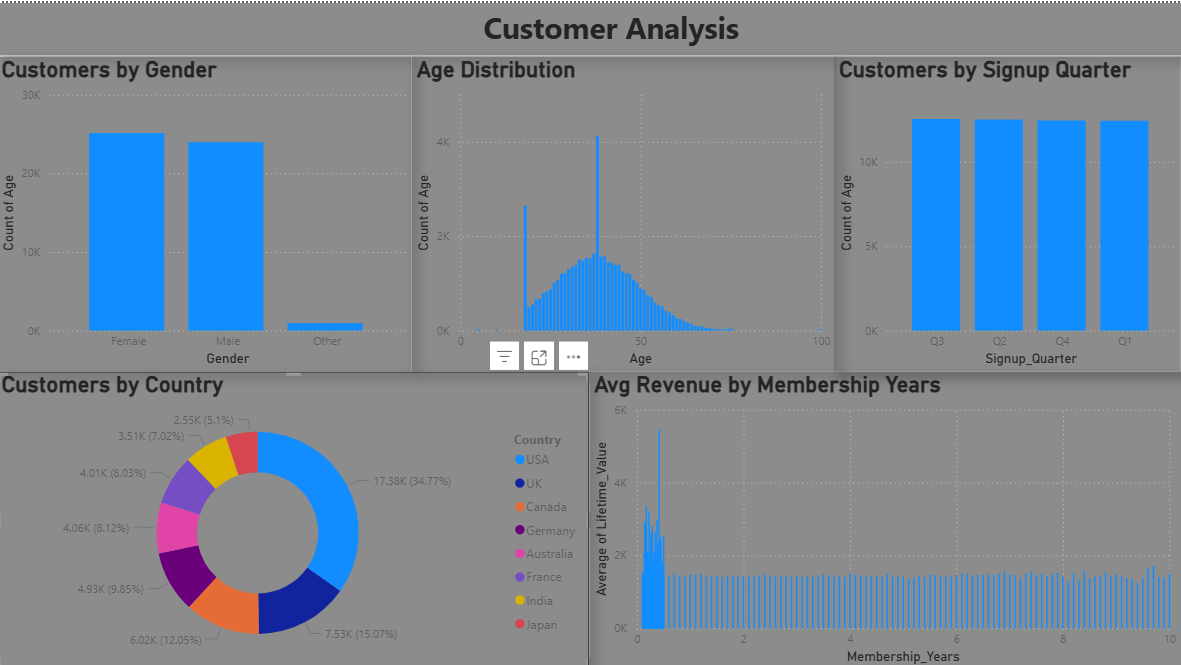

The page's visual inventory and layout, read from the dashboard file:
{"tool":"powerbi","page":{"name":"Page 2","canvas":[1280,720],"ordinal":1},"visuals":[{"type":"textbox","box":[0,0,1280,57.1],"z":0},{"type":"clusteredColumnChart","title":"Customers by Gender","fields":{"Category":["ecommerc.Gender"],"Y":["CountNonNull(ecommerc.Age)"]},"box":[0,58,448,340],"z":1000},{"type":"clusteredColumnChart","title":"Age Distribution","fields":{"Category":["ecommerc.Age"],"Y":["CountNonNull(ecommerc.Age)"]},"box":[448,58,458,340],"z":2000},{"type":"donutChart","title":"Customers by Country","fields":{"Y":["CountNonNull(ecommerc.Age)"],"Category":["ecommerc.Country"]},"box":[0,398.6,640,321.4],"z":3000},{"type":"clusteredColumnChart","title":"Avg Revenue by Membership Years","fields":{"Category":["ecommerc.Membership_Years"],"Y":["Avg(ecommerc.Lifetime_Value)"]},"box":[640,398.6,640,321.4],"z":4000},{"type":"clusteredColumnChart","title":"Customers by Signup Quarter","fields":{"Category":["ecommerc.Signup_Quarter"],"Y":["CountNonNull(ecommerc.Age)"]},"box":[906,58,374,340],"z":5000}]}

Visuals, with their boxes in screenshot pixels (x1, y1, x2, y2), scaled from the page's 1280x720 canvas onto the 1181x665 screenshot:
textbox: crop(0, 0, 1180, 53)
"Customers by Gender" clusteredColumnChart: crop(0, 54, 413, 368)
"Age Distribution" clusteredColumnChart: crop(413, 54, 836, 368)
"Customers by Country" donutChart: crop(0, 368, 590, 664)
"Avg Revenue by Membership Years" clusteredColumnChart: crop(590, 368, 1180, 664)
"Customers by Signup Quarter" clusteredColumnChart: crop(836, 54, 1180, 368)
